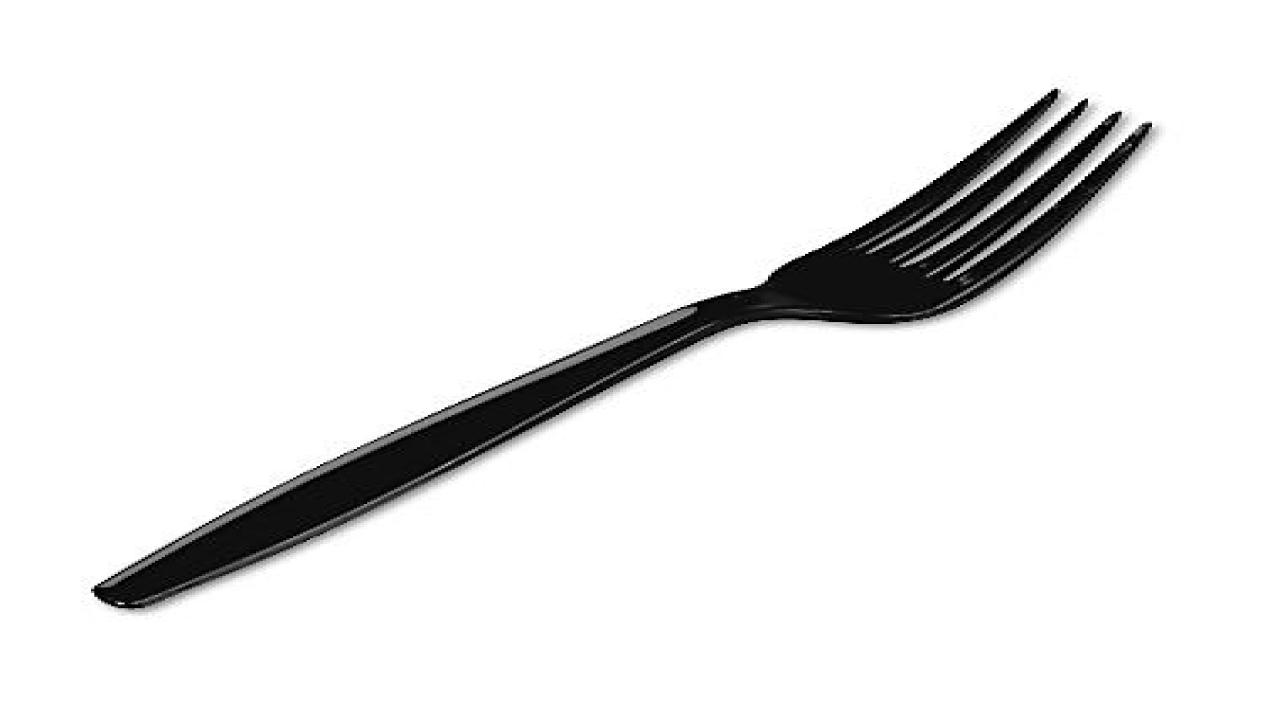fork: (88, 85, 1152, 608)
